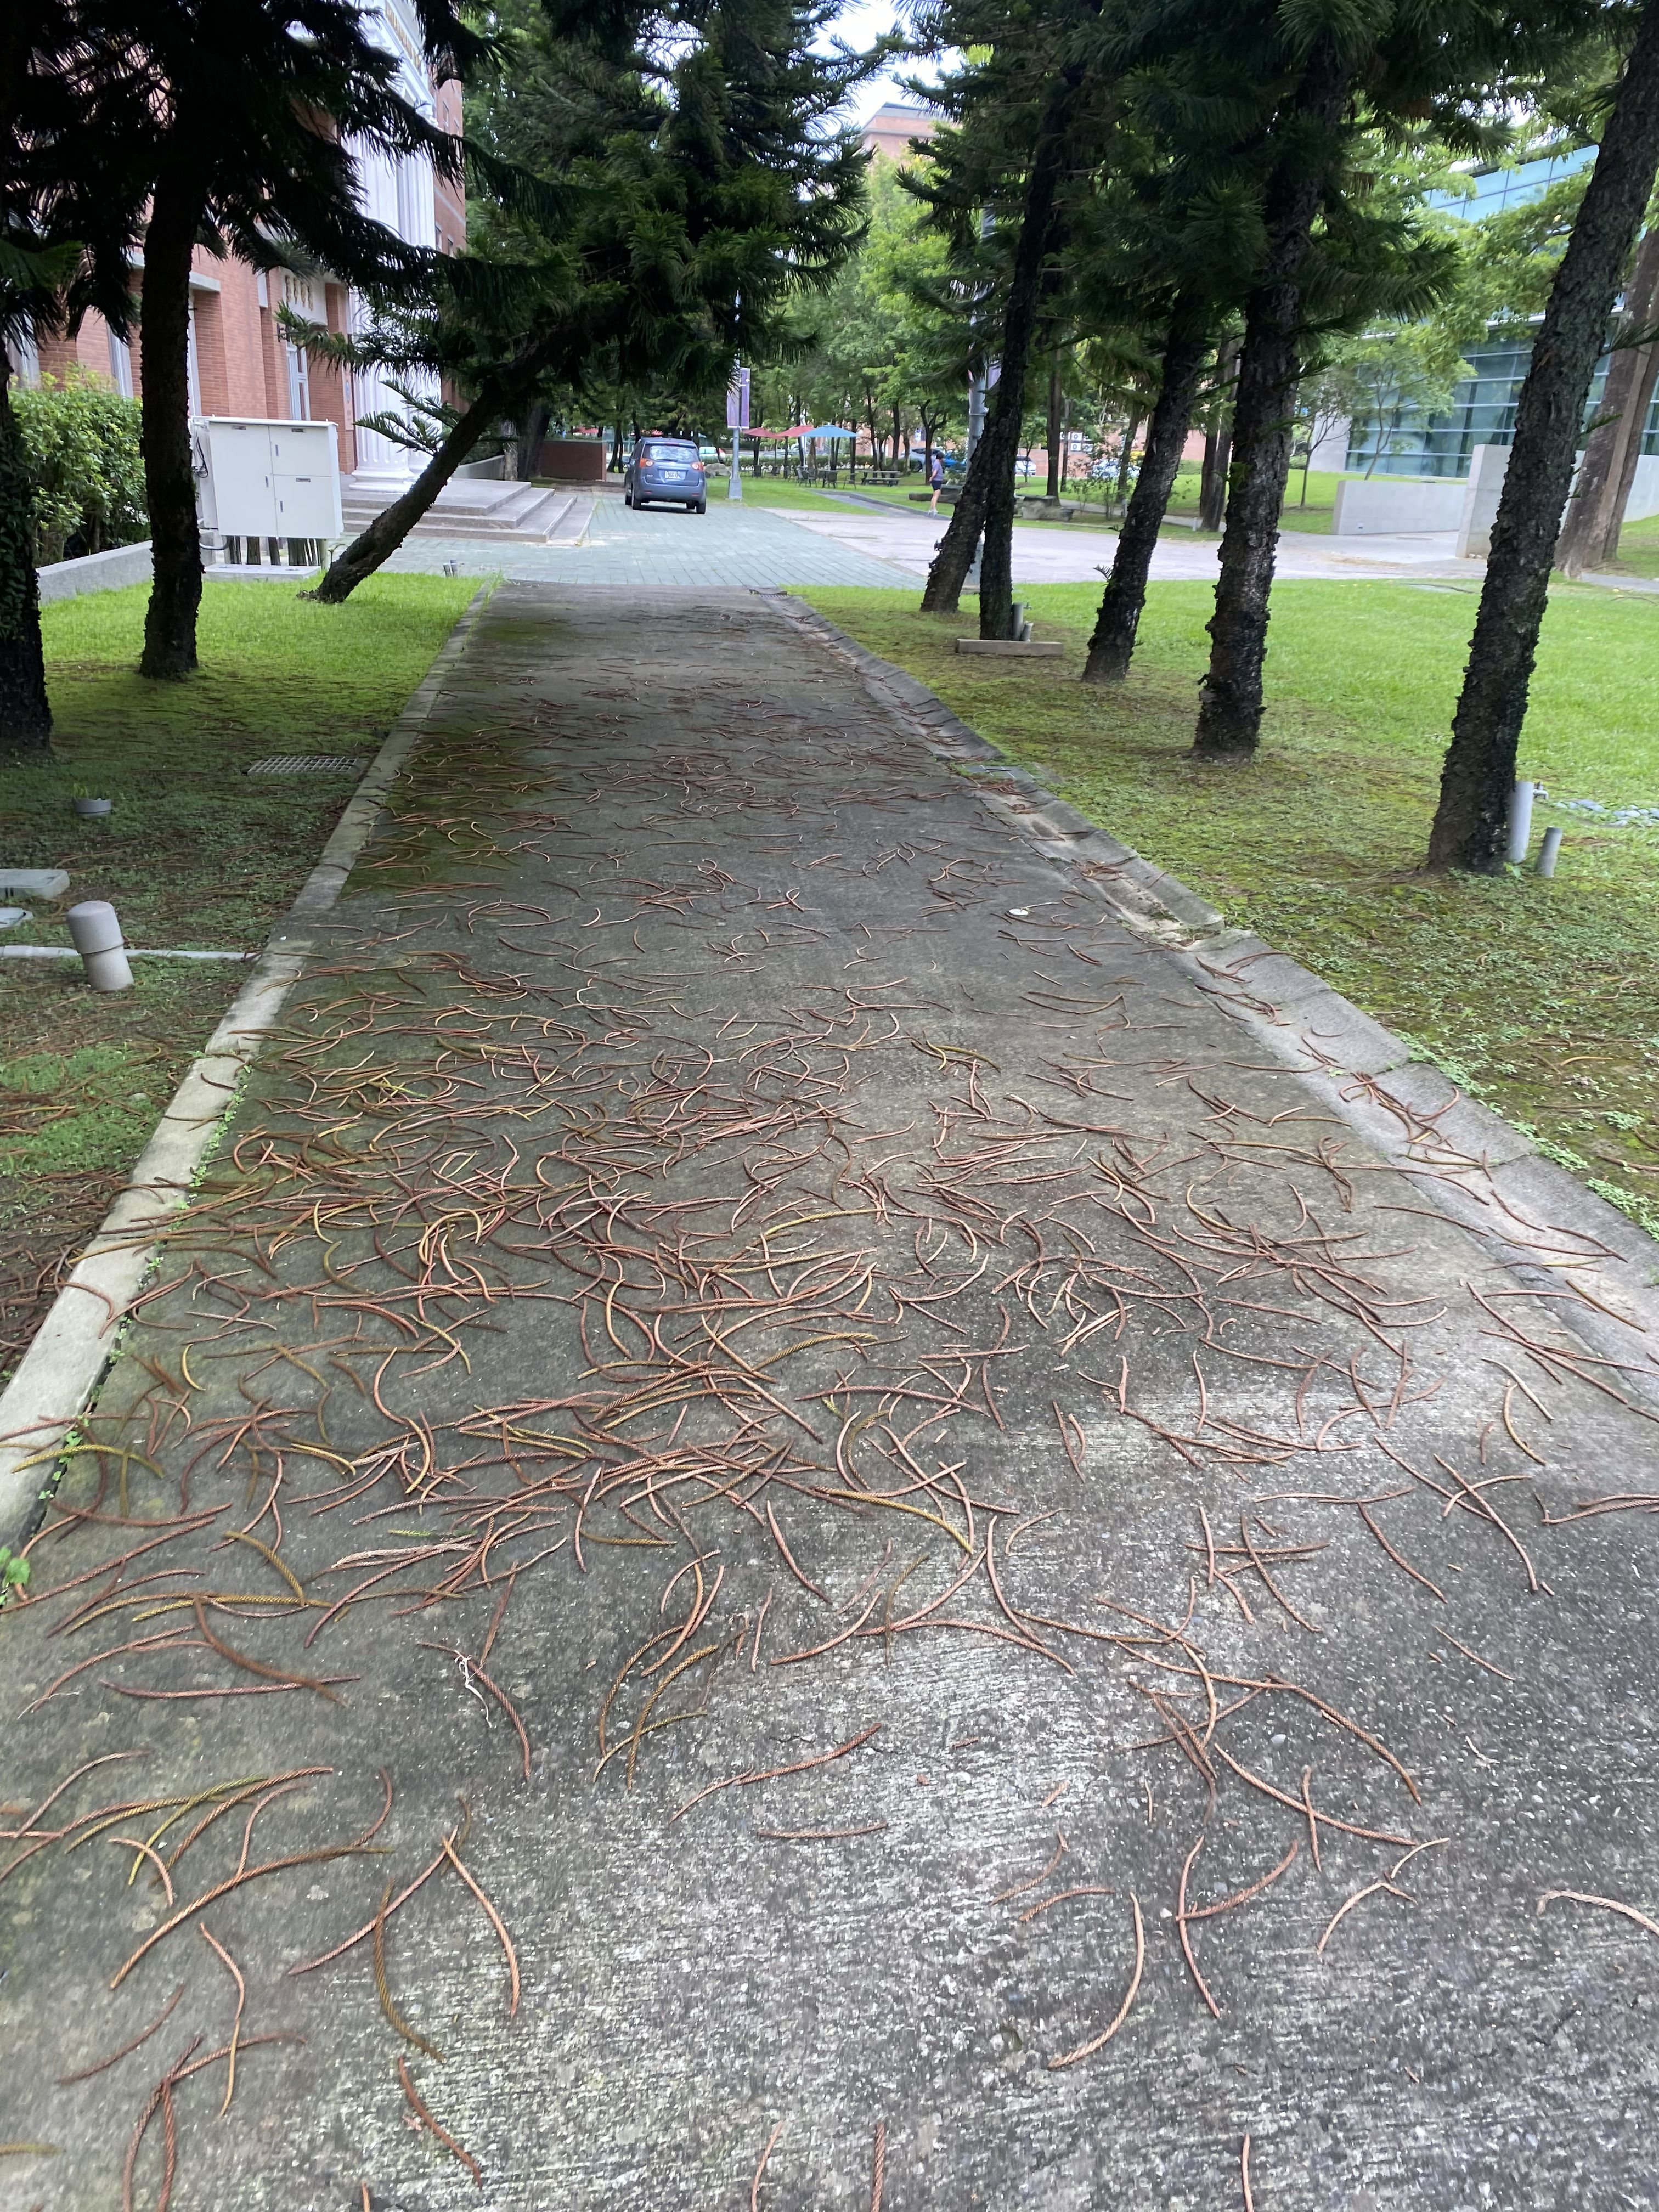sidewalk: (31, 559, 1659, 2212)
